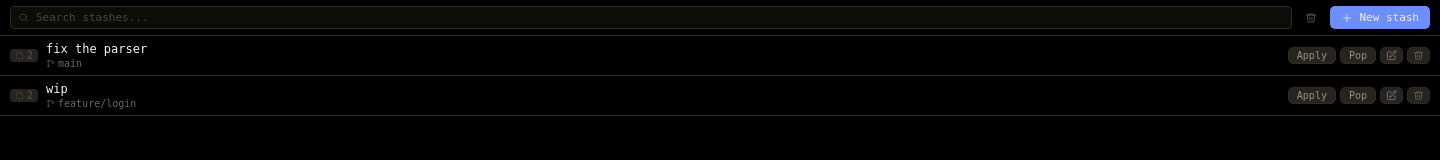
Test: StashView › searching › distinguishes no match from no stash at all
This screenshot has width=1440, height=160.
In the field with class "stash-search-input": {"x": 659, "y": 18} x1=34 y1=10 x2=1284 y2=25, type "zzz"
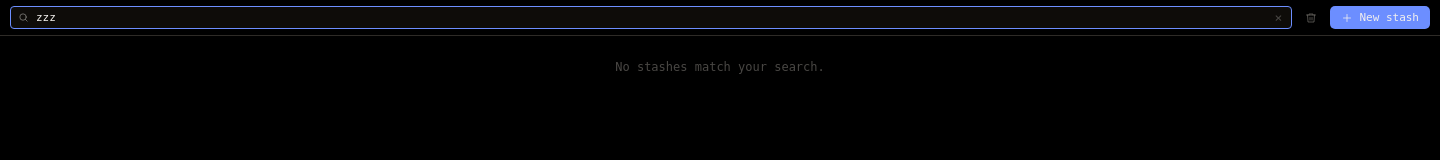
Expected: the number of elements with class "stash-empty" is 1, x1=615 y1=60 x2=825 y2=74
